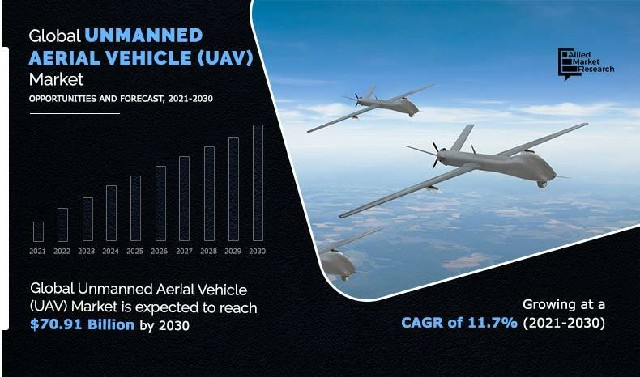maybay_khongnguoilai: (330, 119, 585, 230), (316, 84, 442, 136)
